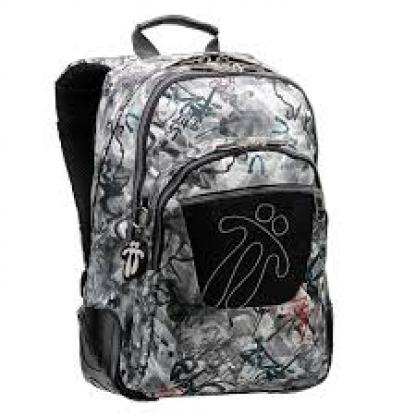morral: (52, 6, 355, 403)
